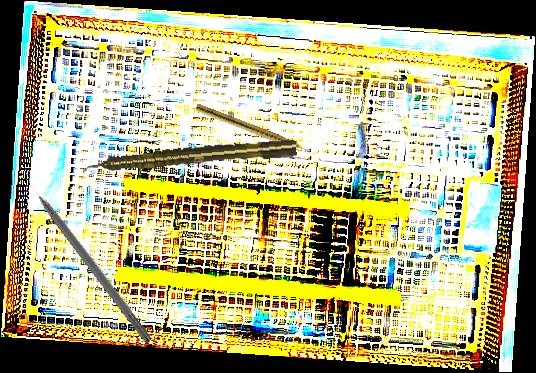Handpiece: (81, 137, 298, 177), (194, 103, 312, 157)
Hook Surgical: (19, 170, 156, 346)
